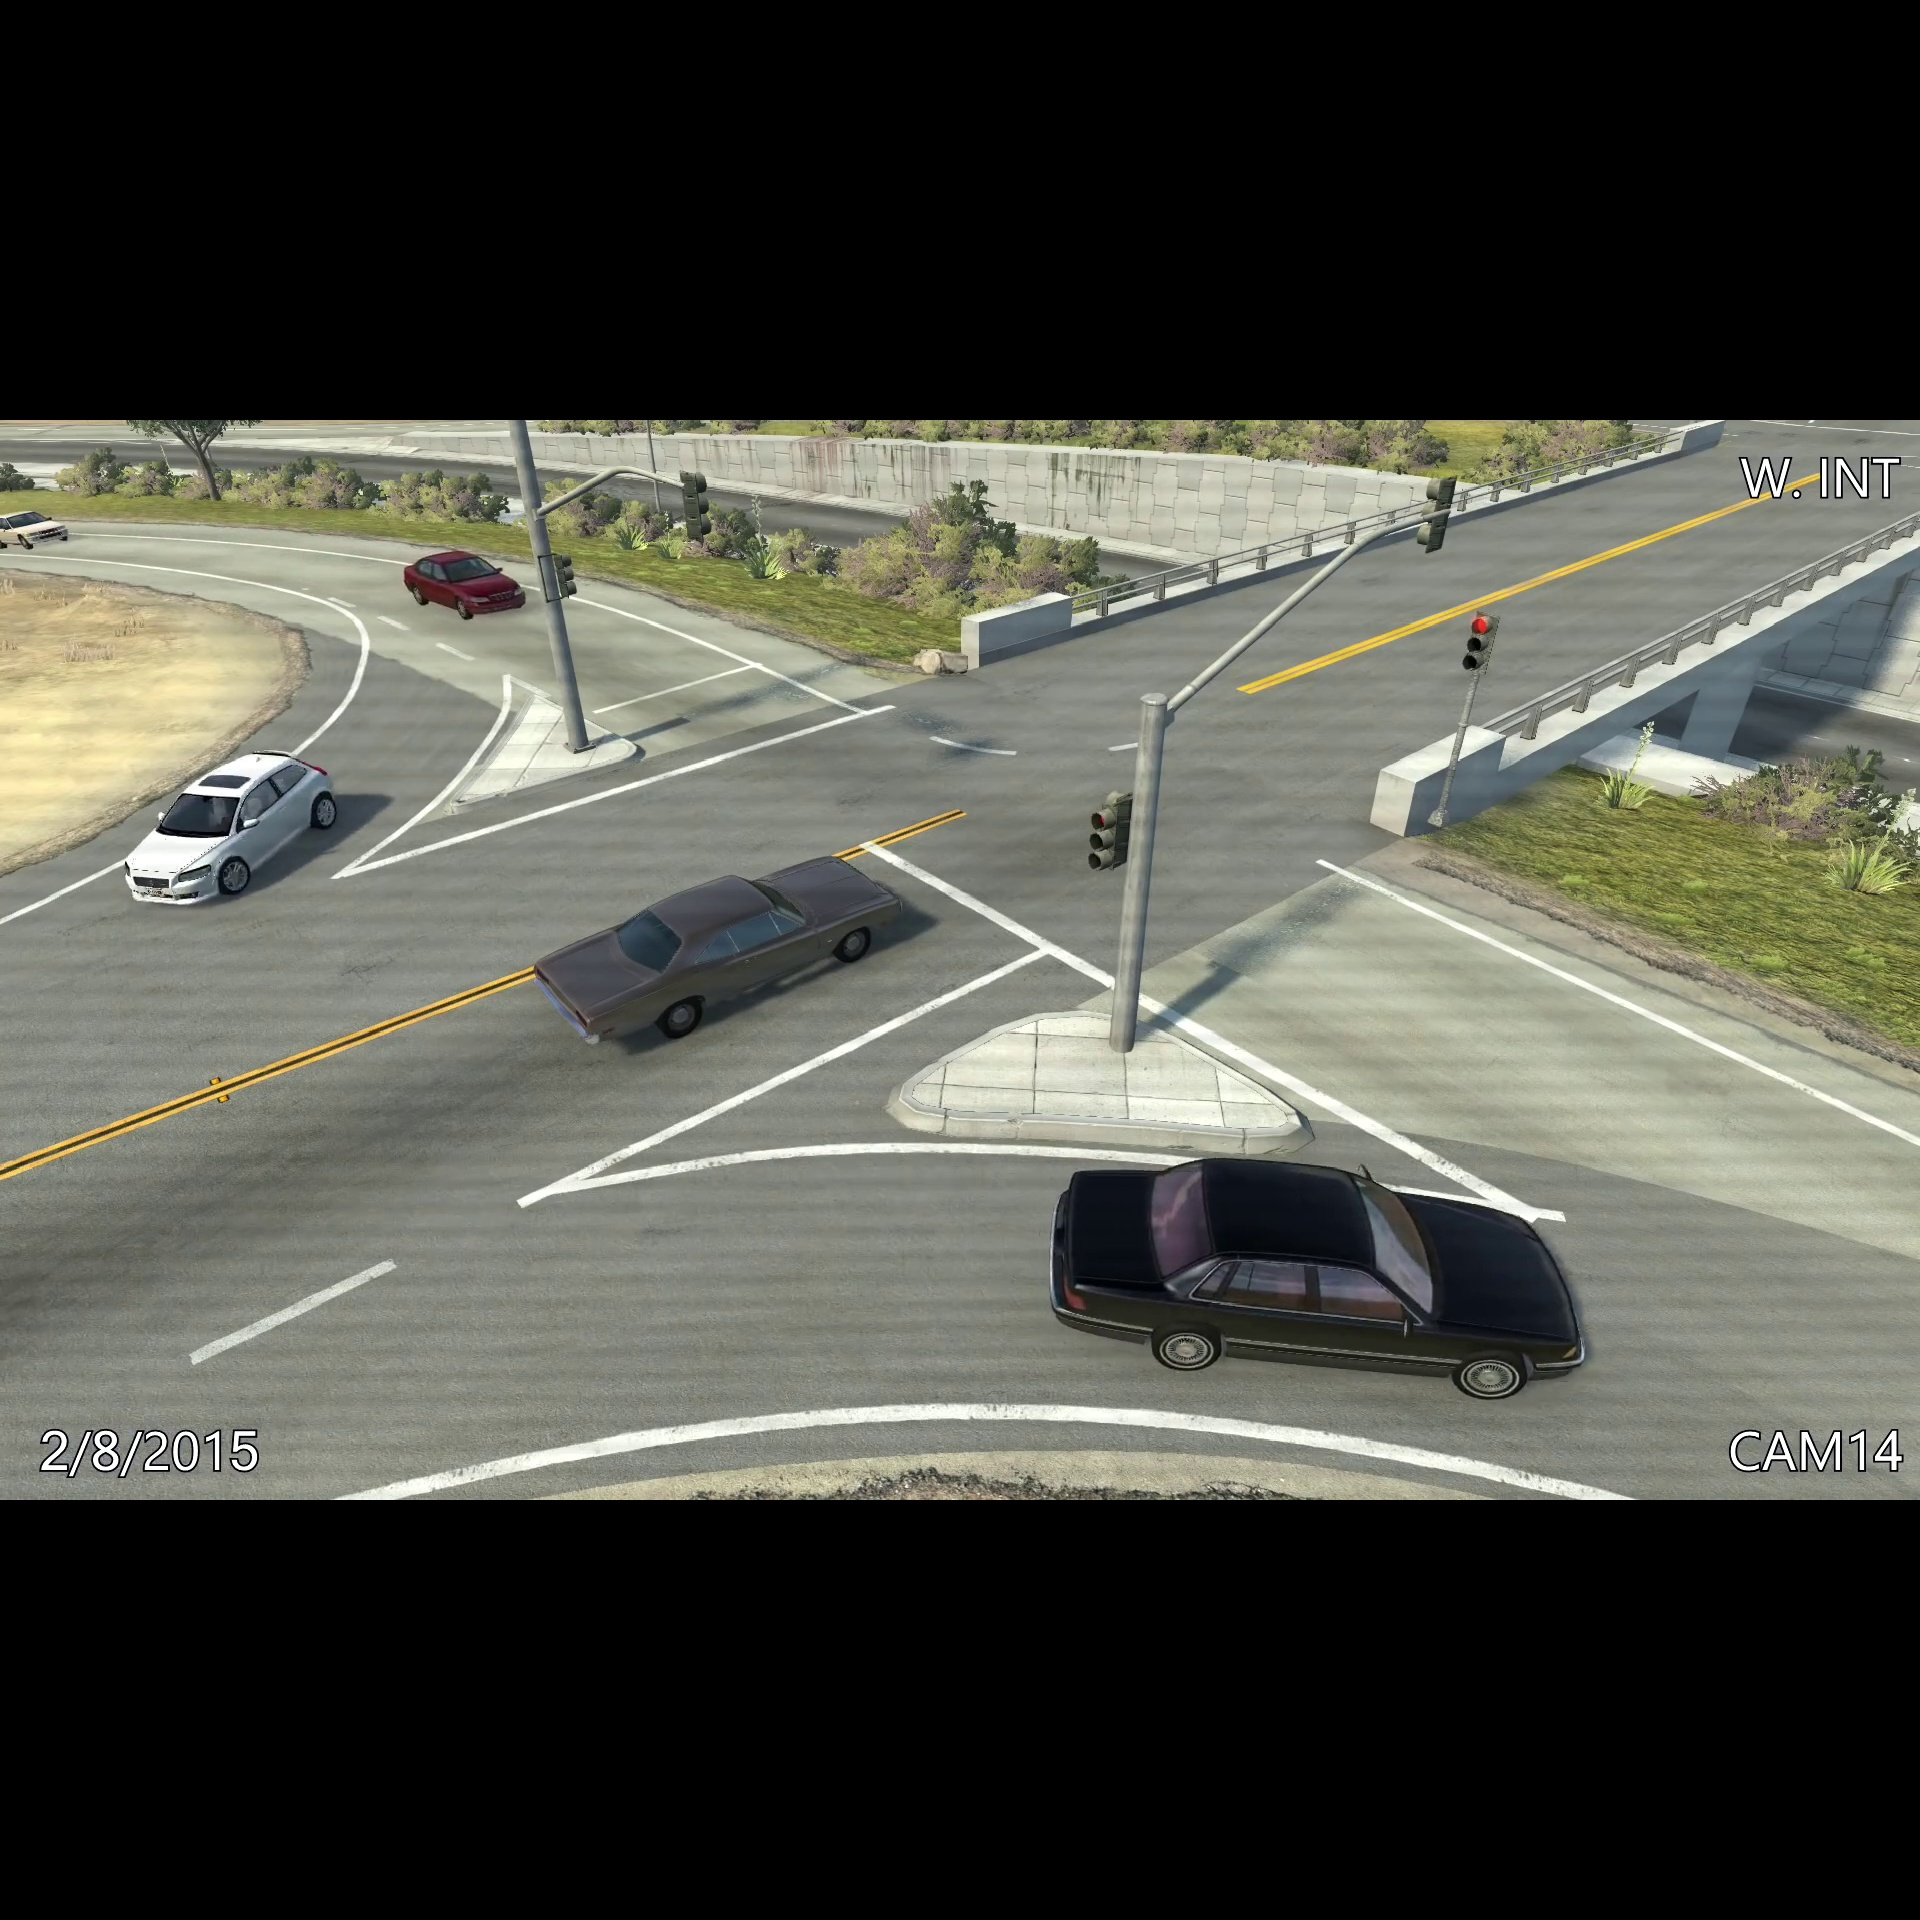vehicle: (1036, 1145, 1595, 1403), (522, 846, 904, 1053), (118, 745, 346, 914), (396, 542, 533, 626), (2, 510, 77, 556)
